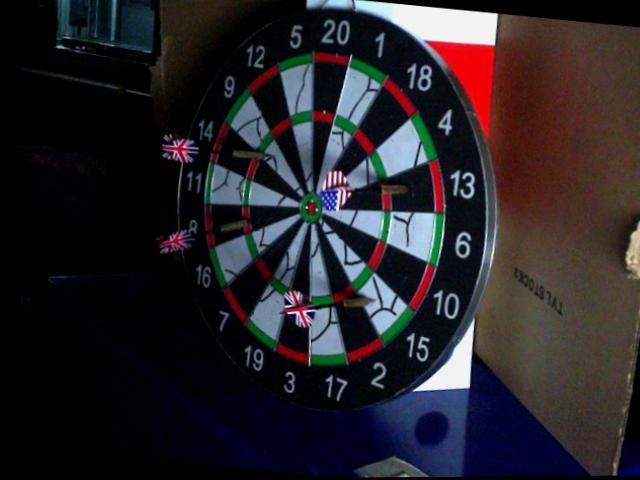single_13: (387, 176, 429, 211)
single_15: (359, 277, 409, 333)
single_8: (253, 207, 293, 230)
single_9: (264, 149, 300, 190)
